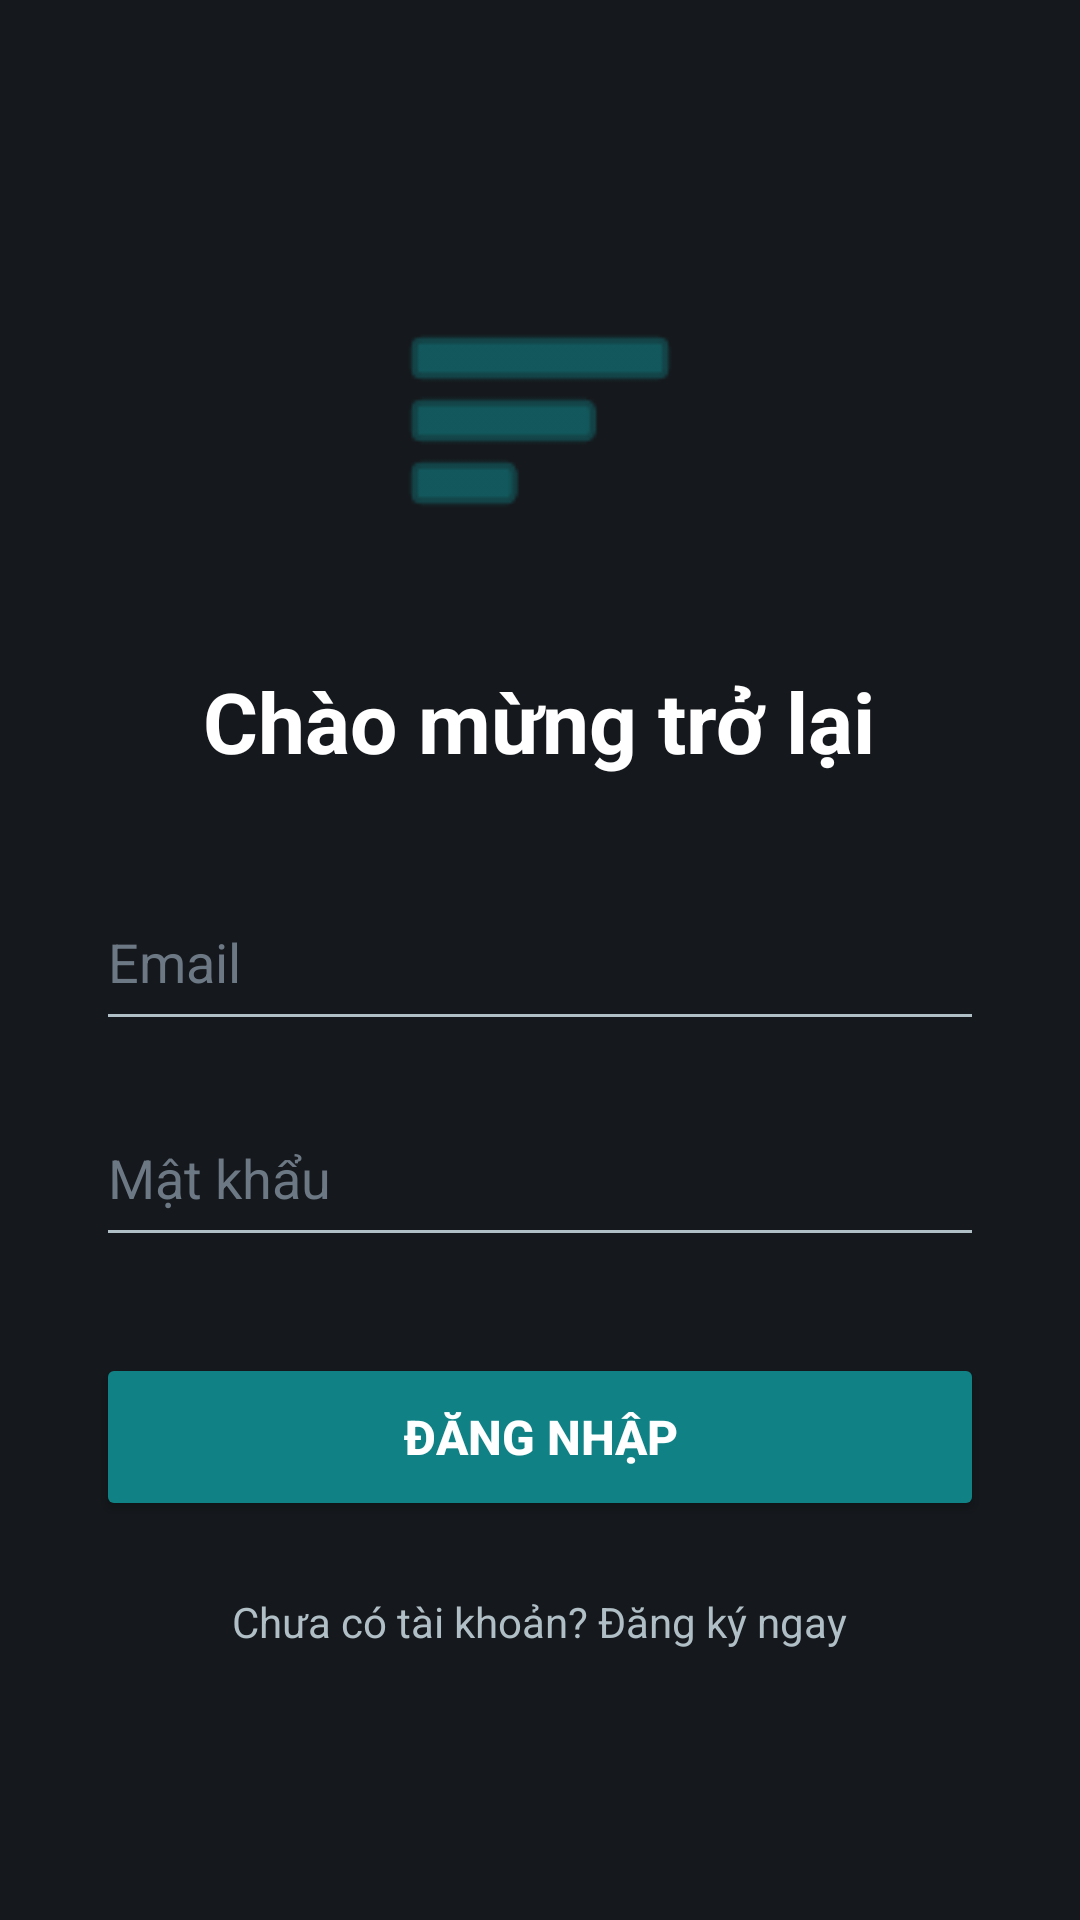

Named icons in this screenshot (1080px x 1920px) and their centers, (x,y):
sort by size: (540,421)
